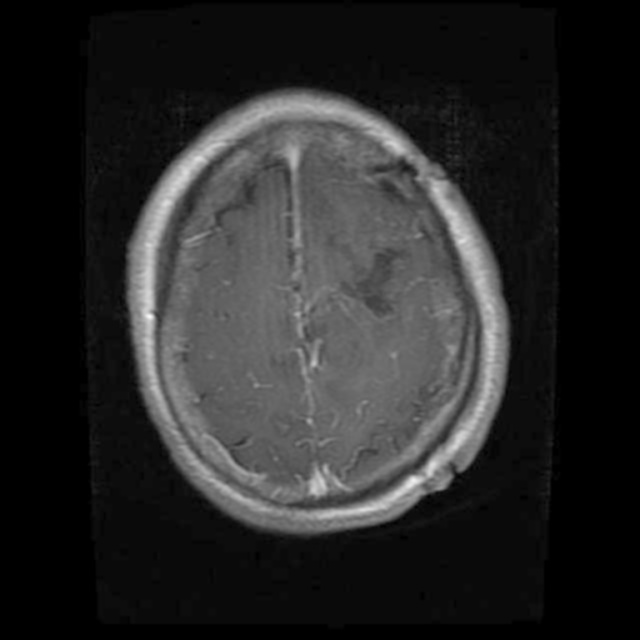pituitary tumor: (348, 248, 402, 312)
